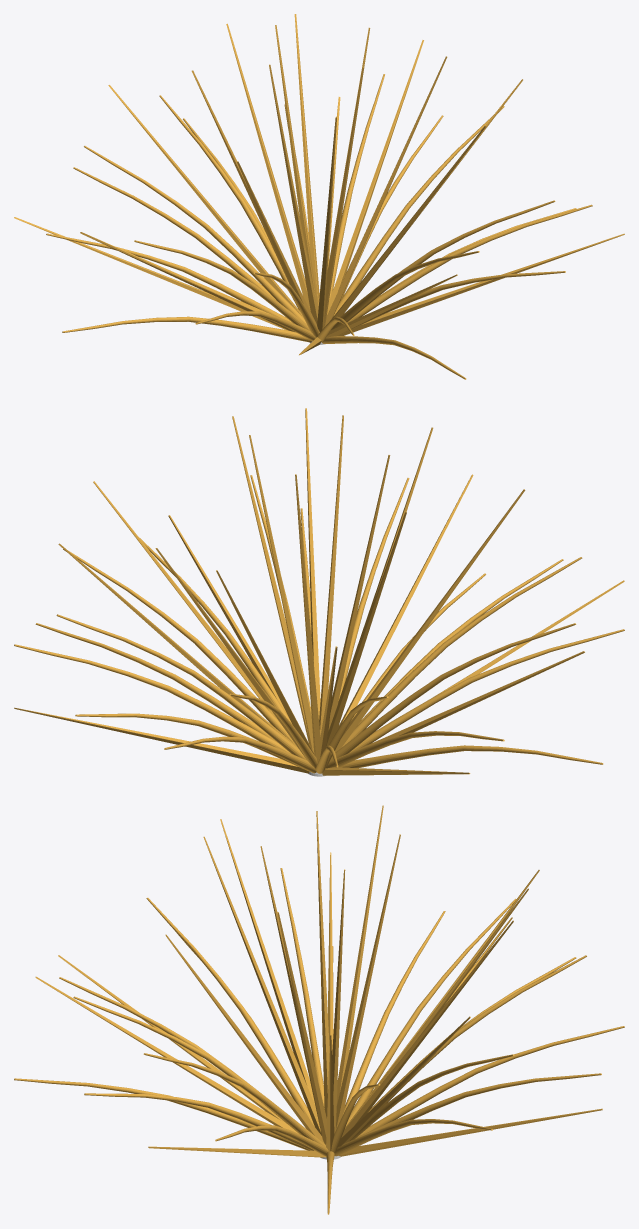
The model's file is Sand Bush.fbx.
3 renders of one model, top to bottom at view 1: azimuth 30°, elevation 25°; view 2: azimuth 150°, elevation 25°; view 3: azimuth 270°, elevation 25°, orthographic. The views are drawn at different scales.
Visible parts, largest first — view 1: bush base|bush leaf bended|Dupli|17.1, bush base|bush leaf|Dupli|, bush base|bush leaf|Dupli|3, bush base|bush leaf|Dupli|7, bush base|bush leaf bended|Dupli|15.1, bush base|bush leaf bended|Dupli|6.1, bush base|bush leaf|Dupli|14, bush base|bush leaf|Dupli|1, bush base|bush leaf bended|Dupli|4.1, bush base|bush leaf|Dupli|6, bush base|bush leaf|Dupli|18, bush base|bush leaf bended|Dupli|16.1 (+20 smaller); view 2: bush base|bush leaf bended|Dupli|2.1, bush base|bush leaf bended|Dupli|12.1, bush base|bush leaf|Dupli|13, bush base|bush leaf bended|Dupli|13.1, bush base|bush leaf bended|Dupli|14.1, bush base|bush leaf bended|Dupli|3.1, bush base|bush leaf|Dupli|2, bush base|bush leaf bended|Dupli|4.1, bush base|bush leaf|Dupli|9, bush base|bush leaf|Dupli|4, bush base|bush leaf bended|Dupli|15.1, bush base|bush leaf|Dupli|19 (+26 smaller); view 3: bush base|bush leaf|Dupli|11, bush base|bush leaf|Dupli|19, bush base|bush leaf bended|Dupli|0.1, bush base|bush leaf bended|Dupli|12.1, bush base|bush leaf|Dupli|10, bush base|bush leaf bended|Dupli|17.1, bush base|bush leaf|Dupli|14, bush base|bush leaf|Dupli|16, bush base|bush leaf|Dupli|13, bush base|bush leaf|Dupli|1, bush base|bush leaf|Dupli|8, bush base|bush leaf|Dupli|2 (+22 smaller).
Part boxes in pixels (x1,y1,x2,y2): bush base|bush leaf bended|Dupli|17.1: (84,146,306,324); bush base|bush leaf|Dupli|: (226,23,310,310); bush base|bush leaf|Dupli|3: (327,40,423,314); bush base|bush leaf|Dupli|7: (338,233,624,335); bush base|bush leaf bended|Dupli|15.1: (62,316,311,342); bush base|bush leaf bended|Dupli|6.1: (347,204,592,322); bush base|bush leaf|Dupli|14: (269,64,318,324); bush base|bush leaf|Dupli|1: (294,14,319,306); bush base|bush leaf bended|Dupli|4.1: (333,106,504,316); bush base|bush leaf|Dupli|6: (324,56,447,326); bush base|bush leaf|Dupli|18: (108,85,303,317); bush base|bush leaf bended|Dupli|16.1: (46,233,291,322); bush base|bush leaf bended|Dupli|2.1: (56,614,306,760); bush base|bush leaf bended|Dupli|12.1: (342,557,582,746); bush base|bush leaf|Dupli|13: (334,489,525,752); bush base|bush leaf bended|Dupli|13.1: (349,629,624,752); bush base|bush leaf bended|Dupli|14.1: (329,623,576,761); bush base|bush leaf bended|Dupli|3.1: (14,644,290,753); bush base|bush leaf|Dupli|2: (14,707,309,773); bush base|bush leaf bended|Dupli|4.1: (63,549,296,745); bush base|bush leaf|Dupli|9: (319,415,343,736); bush base|bush leaf|Dupli|4: (249,435,314,752); bush base|bush leaf bended|Dupli|15.1: (340,745,603,768); bush base|bush leaf|Dupli|19: (295,474,320,758); bush base|bush leaf|Dupli|11: (203,836,321,1135); bush base|bush leaf|Dupli|19: (336,834,400,1129); bush base|bush leaf bended|Dupli|0.1: (358,1026,624,1136); bush base|bush leaf bended|Dupli|12.1: (146,897,314,1126); bush base|bush leaf|Dupli|10: (35,976,298,1133); bush base|bush leaf bended|Dupli|17.1: (346,898,516,1125); bush base|bush leaf|Dupli|14: (316,811,329,1118); bush base|bush leaf|Dupli|16: (336,805,383,1105); bush base|bush leaf|Dupli|13: (220,819,314,1104); bush base|bush leaf|Dupli|1: (341,920,513,1137); bush base|bush leaf|Dupli|8: (165,934,324,1143); bush base|bush leaf|Dupli|2: (338,1108,602,1156).
Bounding box in the file's own units: 609 × 337 × 588.
